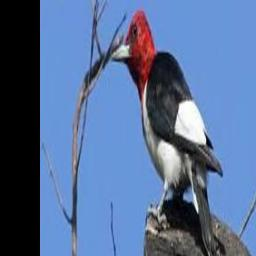Woodpecker: (111, 9, 222, 256)
